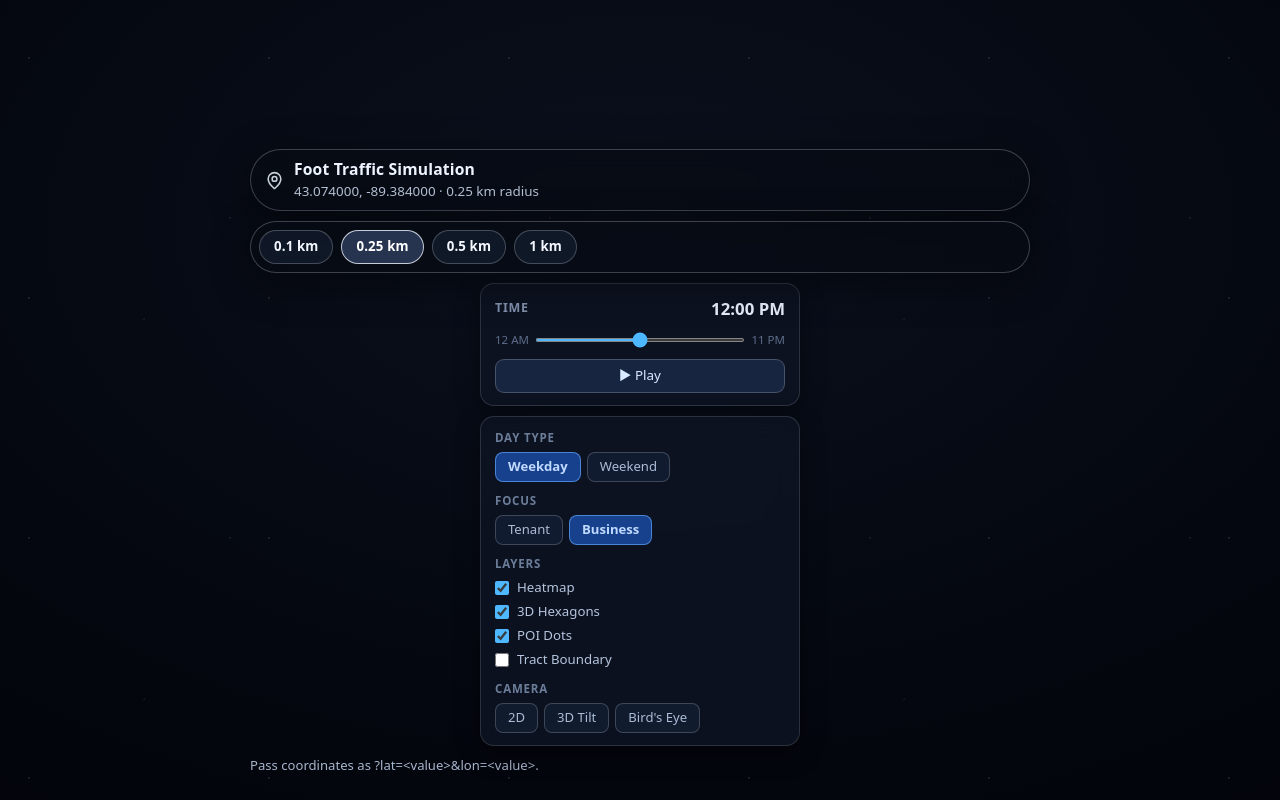
Area3DPage – time slider interactions › play button toggles to paused state on second press
Click the button with aria-label "play time animation". click: (640, 376)
box: [495,359,785,393]
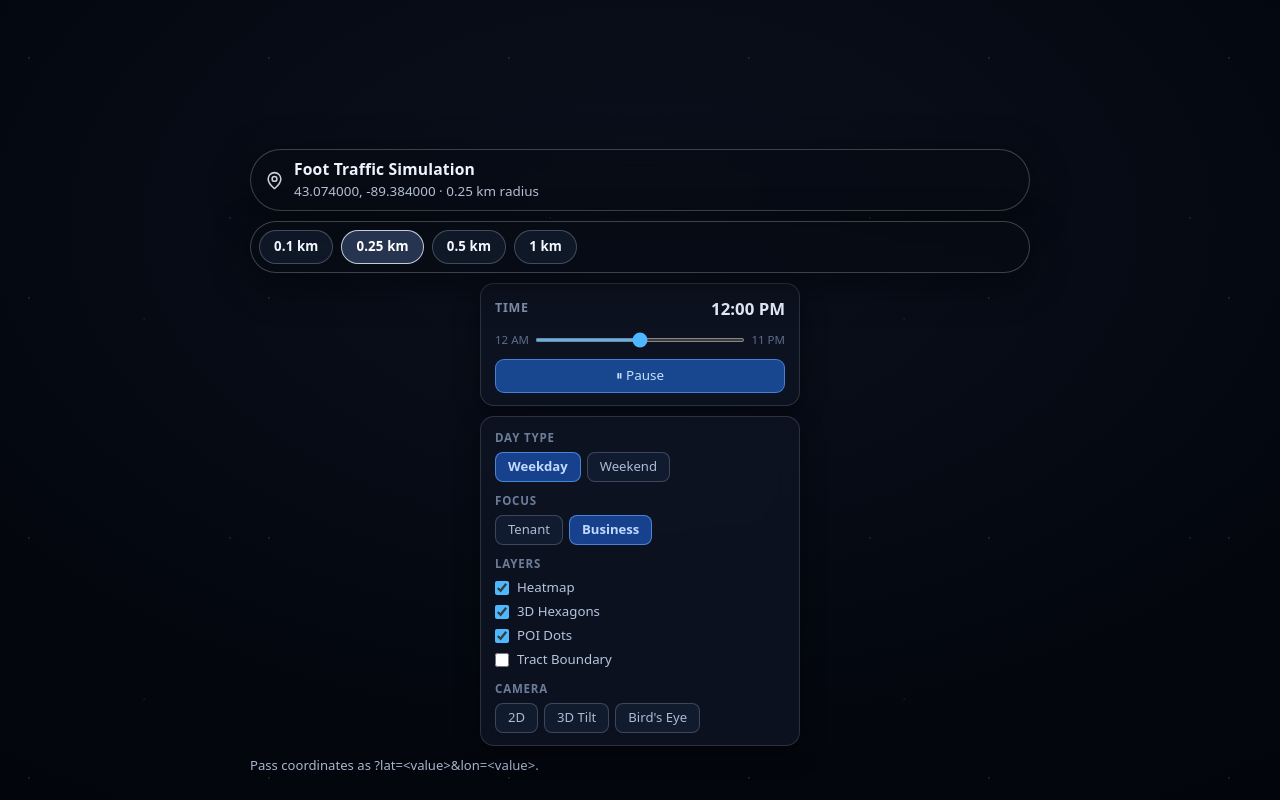
Check: the button with aria-label "pause time animation" is shown, box [495,359,785,393]
